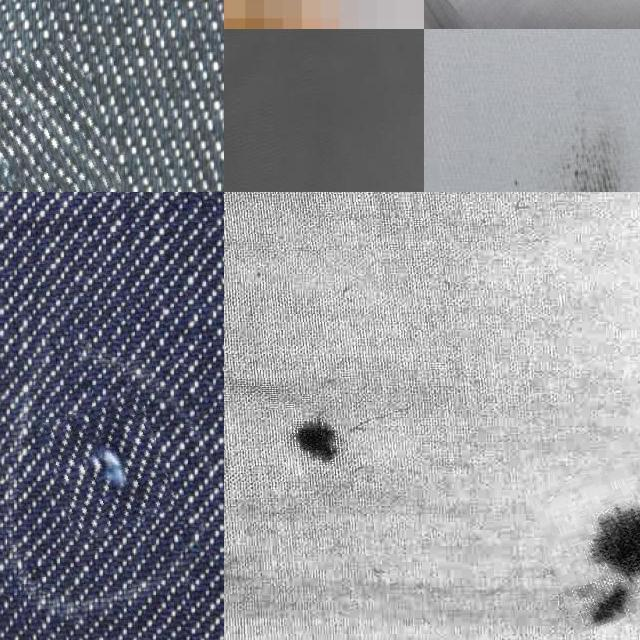Thread_other: (438, 70, 640, 192), (238, 372, 386, 527), (537, 459, 640, 624)
stains: (0, 72, 190, 192), (45, 398, 171, 536)
